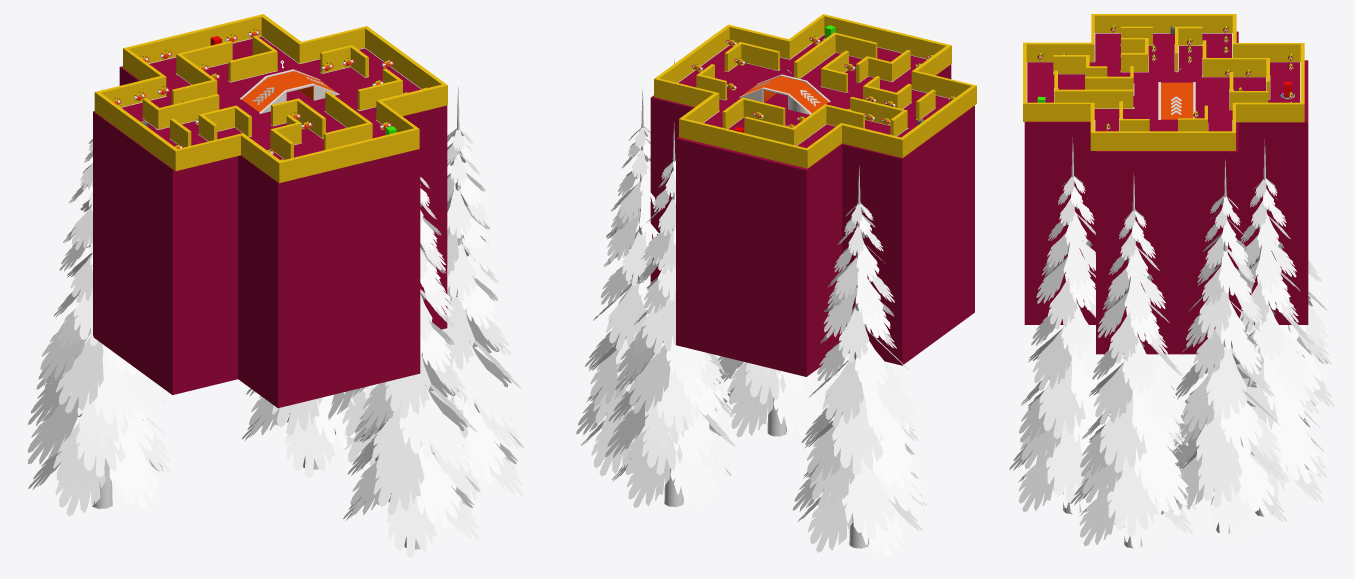
File: Level_16.fbx
The picture shows the model from 3 angles, left to right: view 1: azimuth 30°, elevation 25°; view 2: azimuth 150°, elevation 25°; view 3: azimuth 270°, elevation 25°; orthographic projection. The views are drawn at different scales.
Visible parts, largest first — view 1: Base__2_, Base__3_, autumnPine__26_, springPine__29_, springPine__30_, Base, CompoundWalls_3, springPine__31_, CompoundWalls_1, CompoundWalls, CompoundWalls_2, autumnPine__25_ (+9 smaller); view 2: Base__2_, Base__3_, autumnPine__26_, springPine__31_, autumnPine__25_, Base, springPine__29_, CompoundWalls_2, CompoundWalls_1, CompoundWalls_3, CompoundWalls, Up___Down_Object (+10 smaller); view 3: Base__2_, springPine__30_, autumnPine__25_, springPine__29_, springPine__31_, Base__3_, Base, CompoundWalls, CompoundWalls_2, CompoundWalls_3, CompoundWalls_1, autumnPine__26_ (+9 smaller).
Boxes of the visible parts, x1,y1,x2,y2 form: Base__2_: (93,66,447,295); Base__3_: (93,215,447,408); autumnPine__26_: (27,88,171,516); springPine__29_: (343,177,480,557); springPine__30_: (430,87,524,507); Base: (121,36,437,171); CompoundWalls_3: (241,100,419,183); springPine__31_: (242,387,366,478); CompoundWalls_1: (94,75,244,170); CompoundWalls: (298,26,447,118); CompoundWalls_2: (123,14,303,80); autumnPine__25_: (328,383,433,471); Base__2_: (650,64,974,273); Base__3_: (650,201,974,376); autumnPine__26_: (792,165,926,557); springPine__31_: (605,123,735,507); autumnPine__25_: (576,89,664,476); Base: (678,34,950,148); springPine__29_: (715,356,838,437); CompoundWalls_2: (679,93,841,168); CompoundWalls_1: (839,70,976,157); CompoundWalls_3: (786,14,951,89); CompoundWalls: (654,24,791,111); Up___Down_Object: (742,76,828,113); Base__2_: (1024,31,1308,252); springPine__30_: (1070,173,1196,555); autumnPine__25_: (1161,159,1287,544); springPine__29_: (1009,137,1117,521); springPine__31_: (1211,139,1327,524); Base__3_: (1024,224,1308,354); Base: (1025,33,1299,153); CompoundWalls: (1090,102,1235,150); CompoundWalls_2: (1236,43,1304,122); CompoundWalls_3: (1023,42,1094,121); CompoundWalls_1: (1091,14,1236,61); autumnPine__26_: (1245,200,1334,407).
Size of the model in its own units: 407 by 420 by 311.
